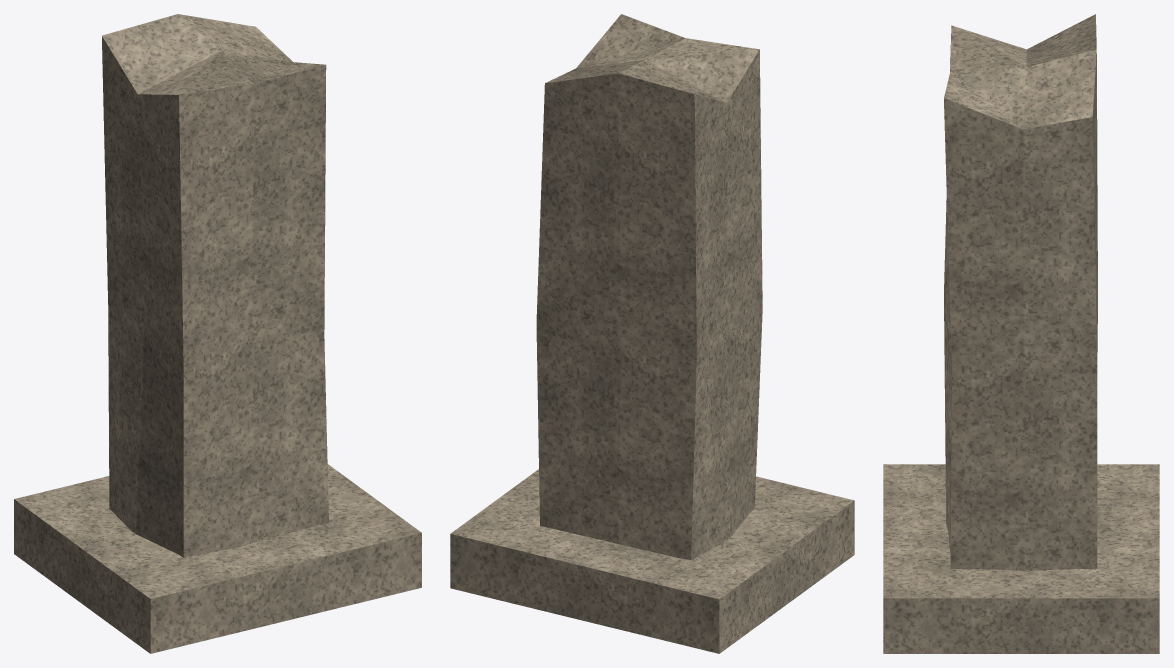
The model's file is ansab.glb.
3 views of the same model, side by side, from view 1: azimuth 30°, elevation 25°; view 2: azimuth 150°, elevation 25°; view 3: azimuth 270°, elevation 25° (orthographic). The views are drawn at different scales.
Visible parts, largest first — view 1: ansab; view 2: ansab; view 3: ansab.
Boxes of the visible parts, x1,y1,x2,y2 form: ansab: (14, 14, 421, 653); ansab: (450, 14, 854, 653); ansab: (883, 14, 1159, 653).
Bounding box in the file's own units: 0.62 × 1.19 × 0.54.
1 material, 1 textured.
